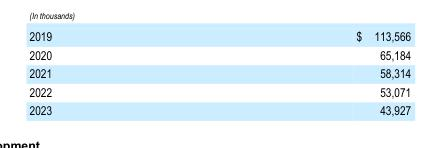table: (28, 28, 410, 116)
table column: (203, 28, 410, 116), (28, 28, 203, 116)
table row: (28, 44, 410, 63), (28, 81, 410, 100), (28, 63, 410, 81), (28, 28, 410, 44), (28, 100, 410, 116)
